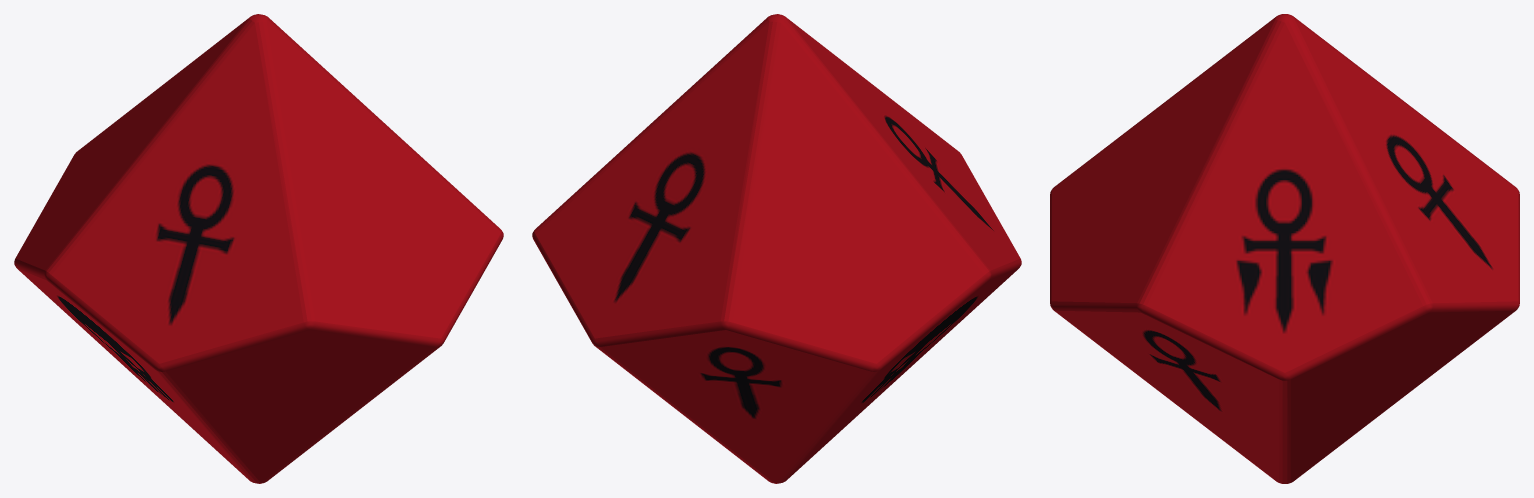
The model's file is vtmred_d10.glb.
The picture shows the model from 3 angles, left to right: view 1: azimuth 30°, elevation 25°; view 2: azimuth 150°, elevation 25°; view 3: azimuth 270°, elevation 25°; orthographic projection.
Parts seen in each view (by area): view 1: vtmred_shell; view 2: vtmred_shell; view 3: vtmred_shell.
Boxes of the visible parts, x1,y1,x2,y2 form: vtmred_shell: [14, 14, 503, 483]; vtmred_shell: [532, 14, 1021, 483]; vtmred_shell: [1050, 14, 1519, 483].
Bounding box in the file's own units: 1.85 × 1.93 × 1.76.
Materials: 1 (1 with a texture image).
